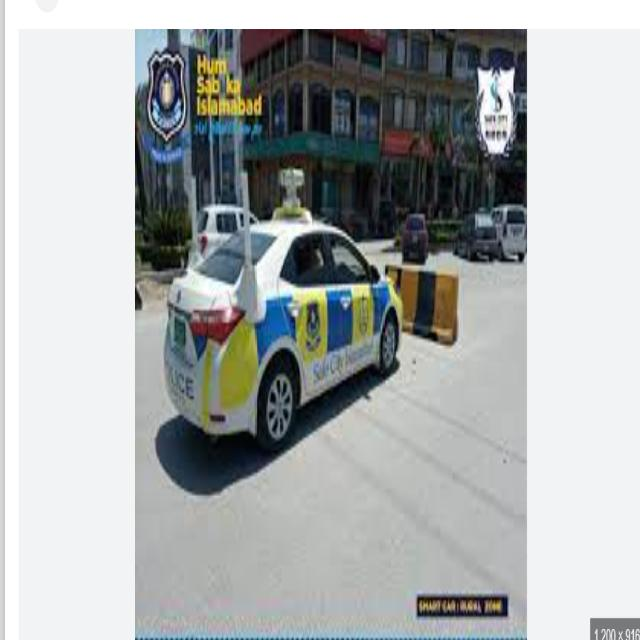police: (154, 238, 411, 416)
